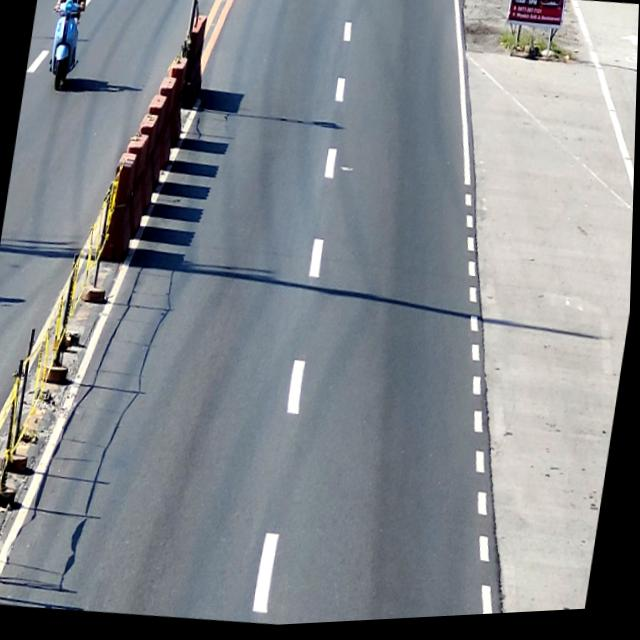Motorcycle: (42, 0, 87, 93)
